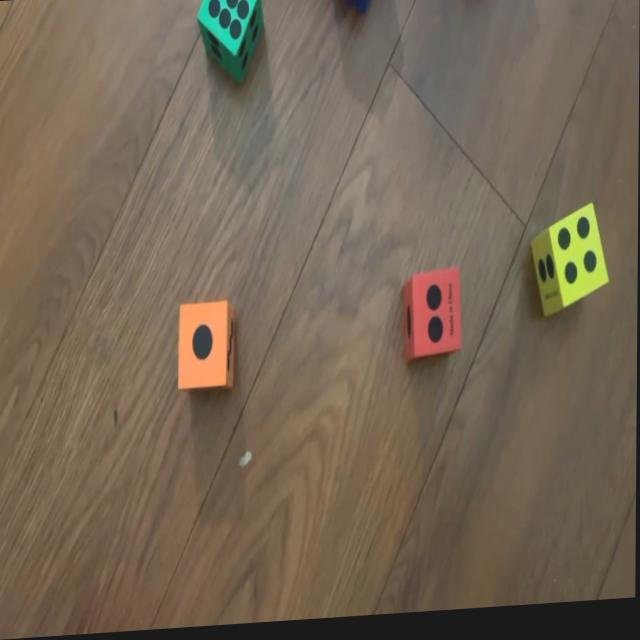blue_block: (332, 0, 382, 12)
red_block: (403, 274, 461, 369)
